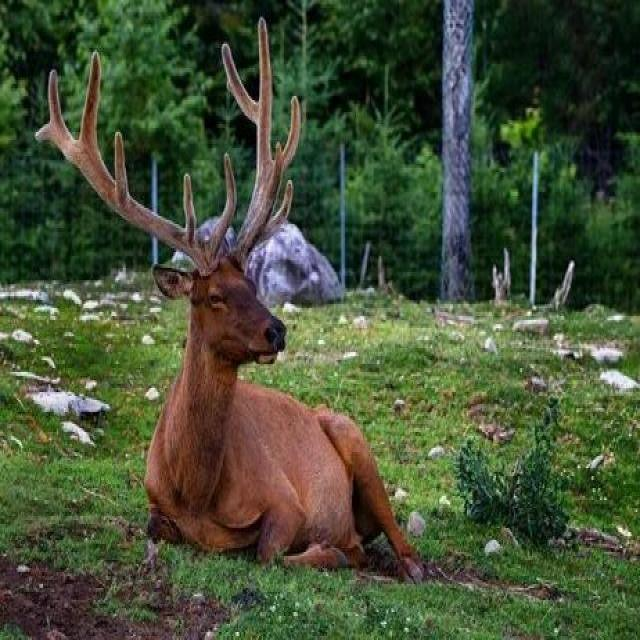deer: (84, 96, 401, 555)
